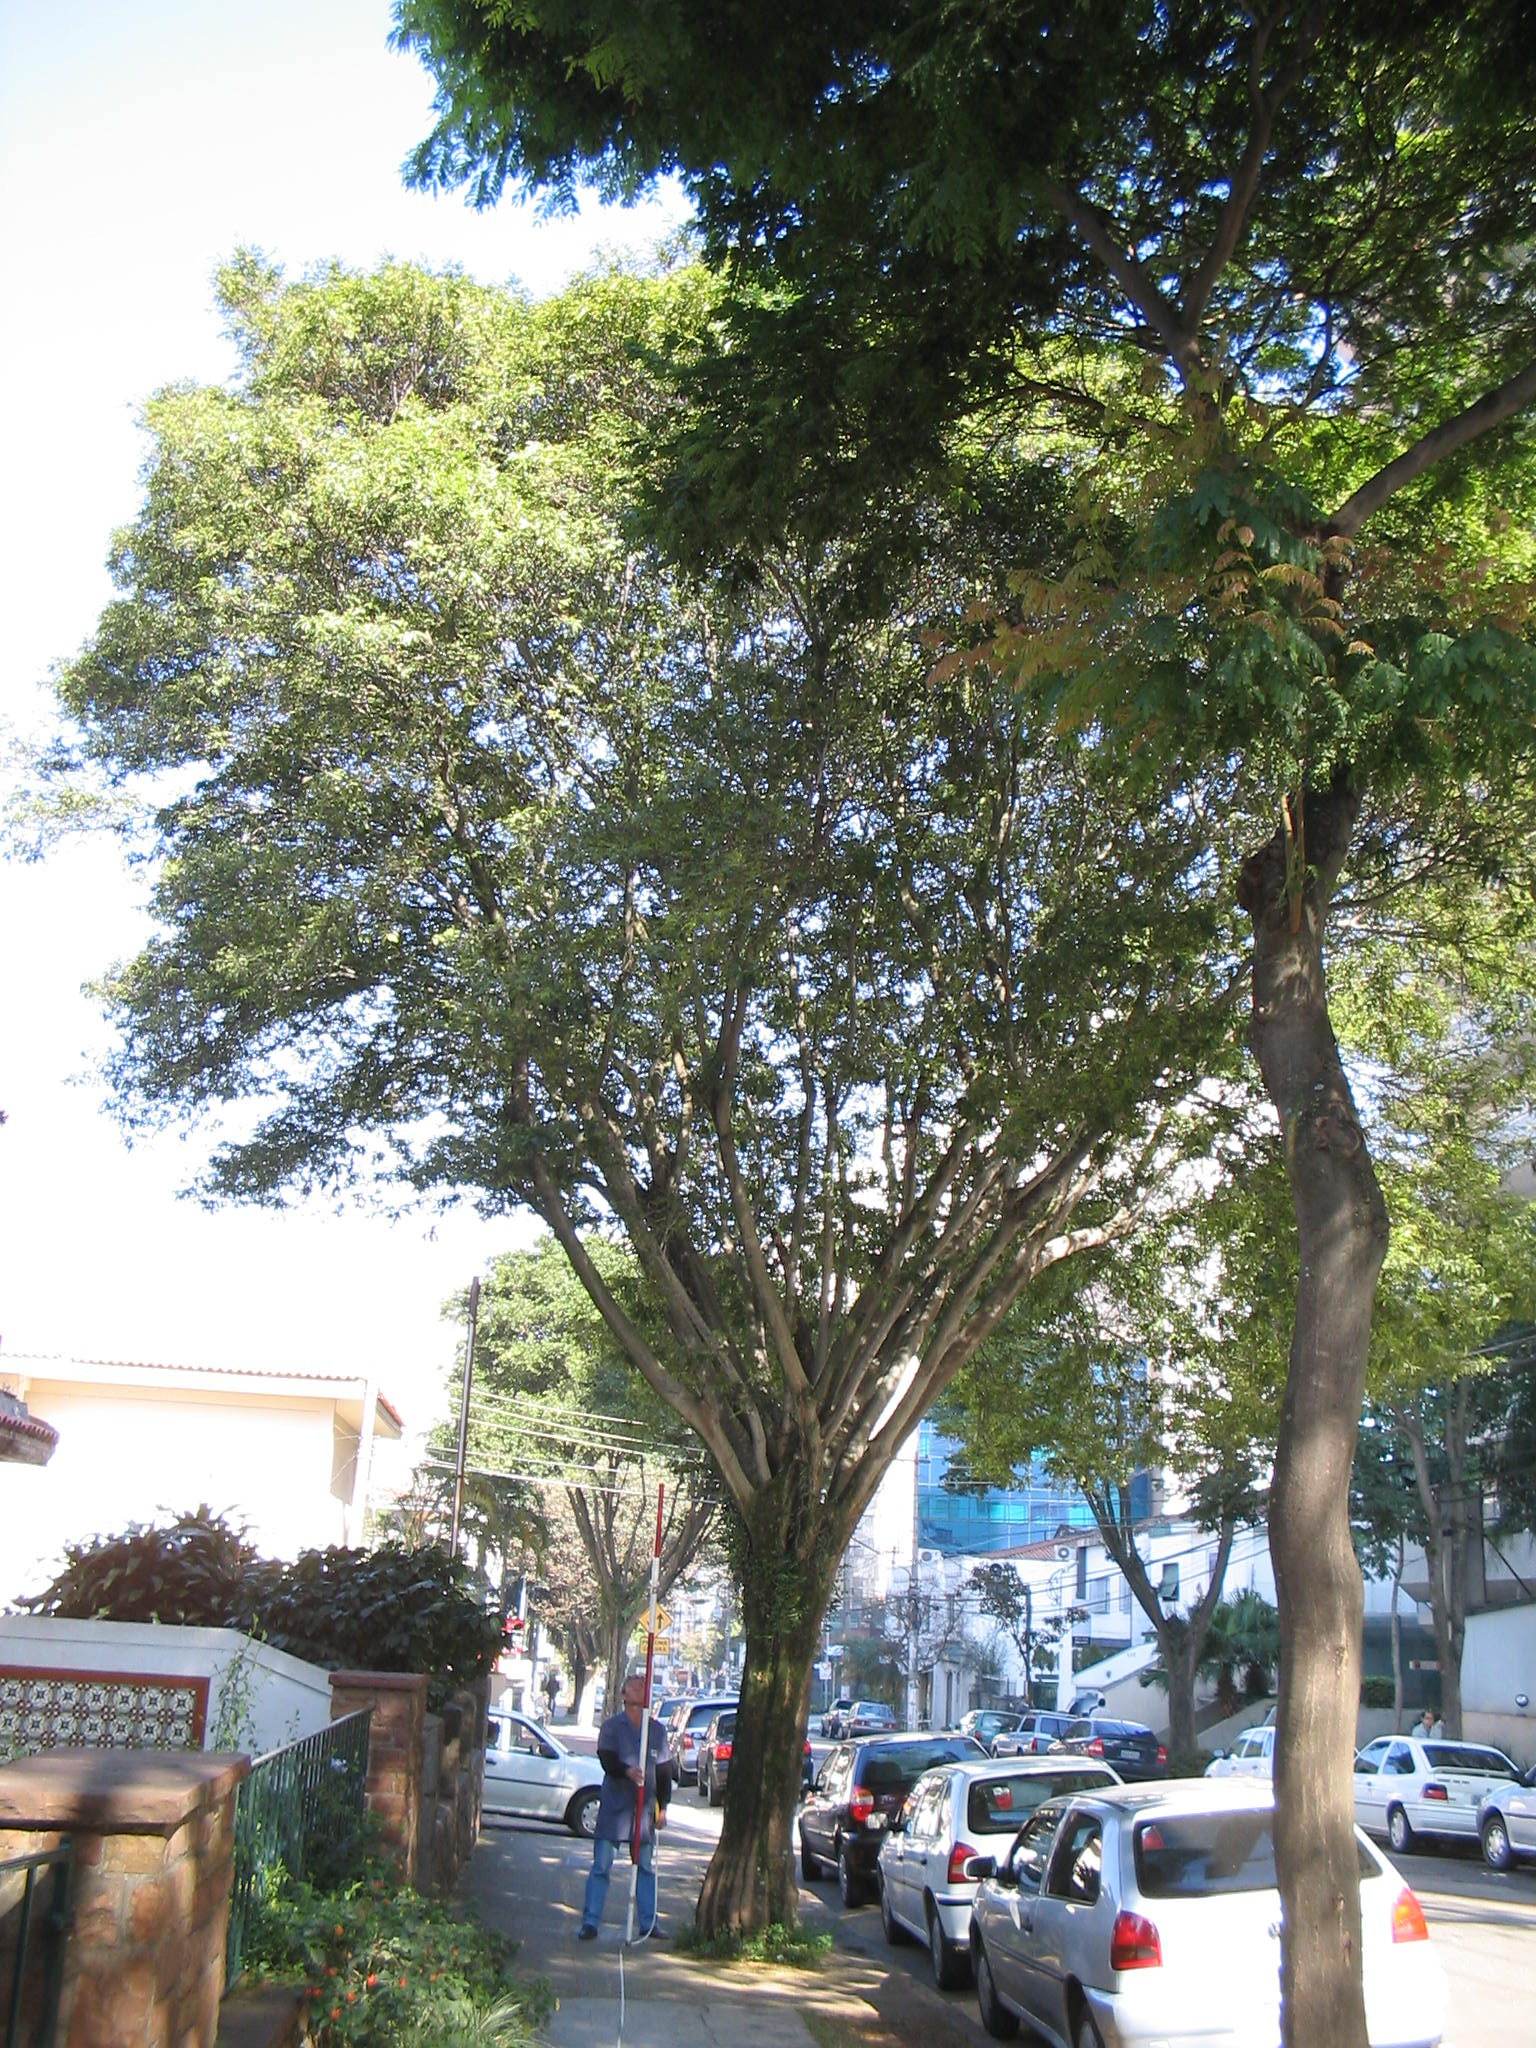crown: (2, 244, 1254, 1276)
stem: (682, 1517, 879, 1950)
stick: (607, 1484, 691, 1945)
tree: (2, 234, 1262, 1954)
